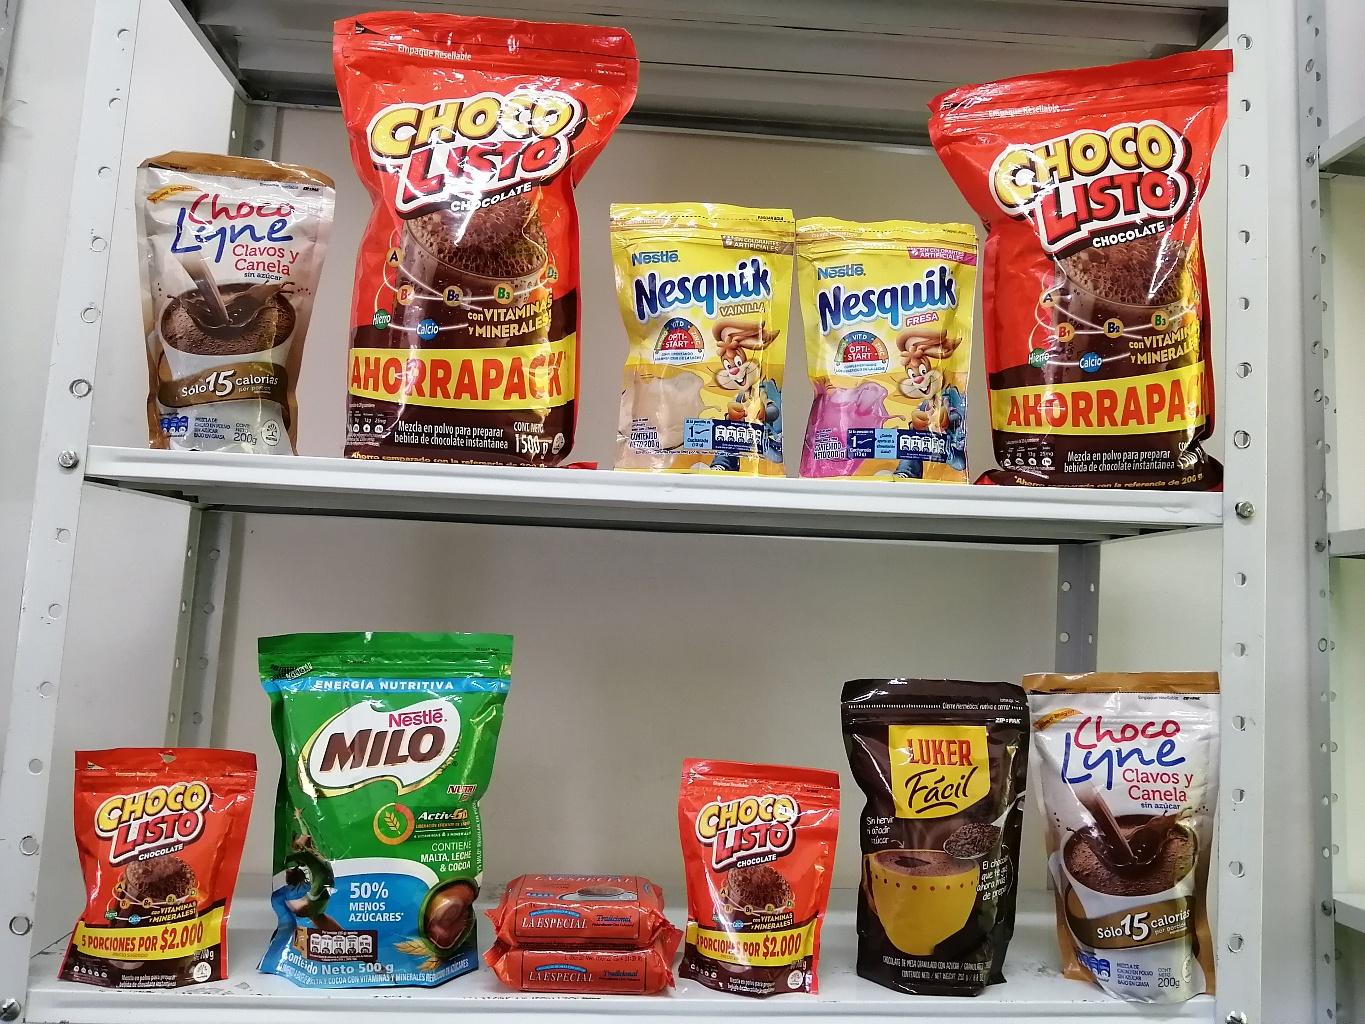COL0170103DYP1,500: (329, 15, 638, 470)
COL0170205DYP50000: (256, 637, 509, 991)
COL0170305DYP20000: (798, 213, 980, 483)
COL0170306DYP20000: (608, 197, 794, 474)
